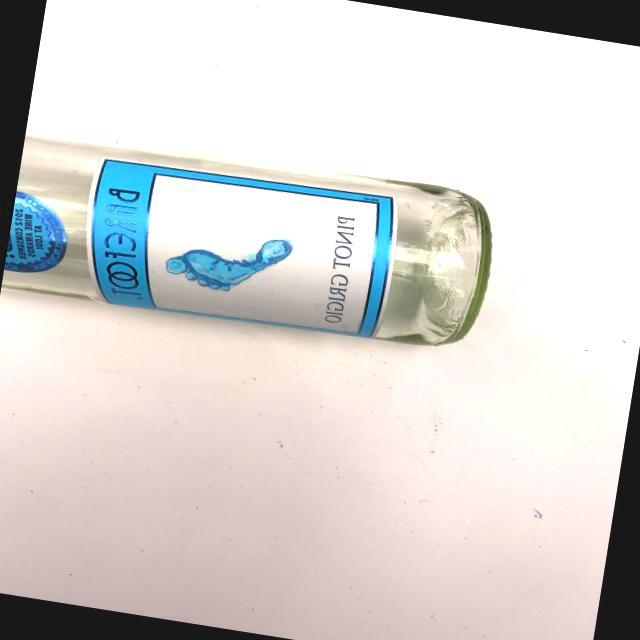glass: (0, 87, 530, 404)
